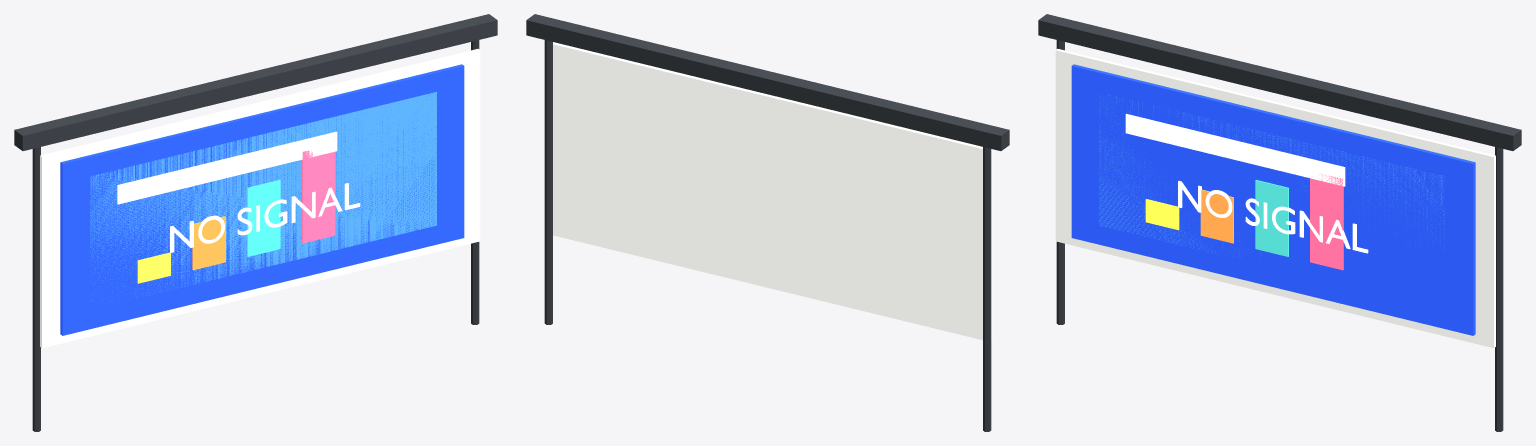
File: projector_screen.glb
3 views of the same model, side by side, from view 1: azimuth 30°, elevation 25°; view 2: azimuth 150°, elevation 25°; view 3: azimuth 330°, elevation 25° (orthographic).
Parts seen in each view (by area): view 1: ScreenNoSignal, ScreenSlide, projector_screen_mesh; view 2: projector_screen_mesh; view 3: ScreenNoSignal, projector_screen_mesh, ScreenSlide.
Part boxes in pixels (x1,y1,x2,y2): ScreenNoSignal: (60, 64, 464, 335); ScreenSlide: (90, 92, 436, 298); projector_screen_mesh: (14, 14, 497, 431); projector_screen_mesh: (526, 14, 1009, 431); ScreenNoSignal: (1071, 64, 1475, 335); projector_screen_mesh: (1038, 14, 1521, 431); ScreenSlide: (1099, 94, 1445, 290).
Size of the model in its own units: 2.6 by 1.58 by 0.119.
